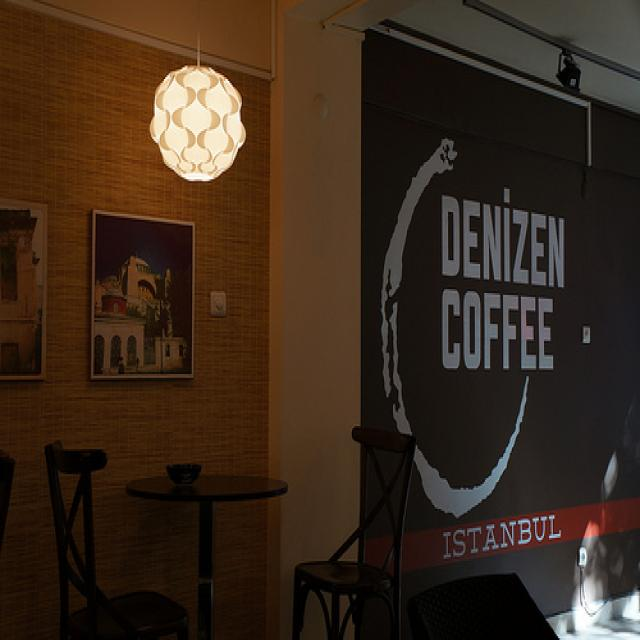Table: (133, 430, 292, 640)
chair: (291, 405, 433, 640), (41, 430, 160, 640)
